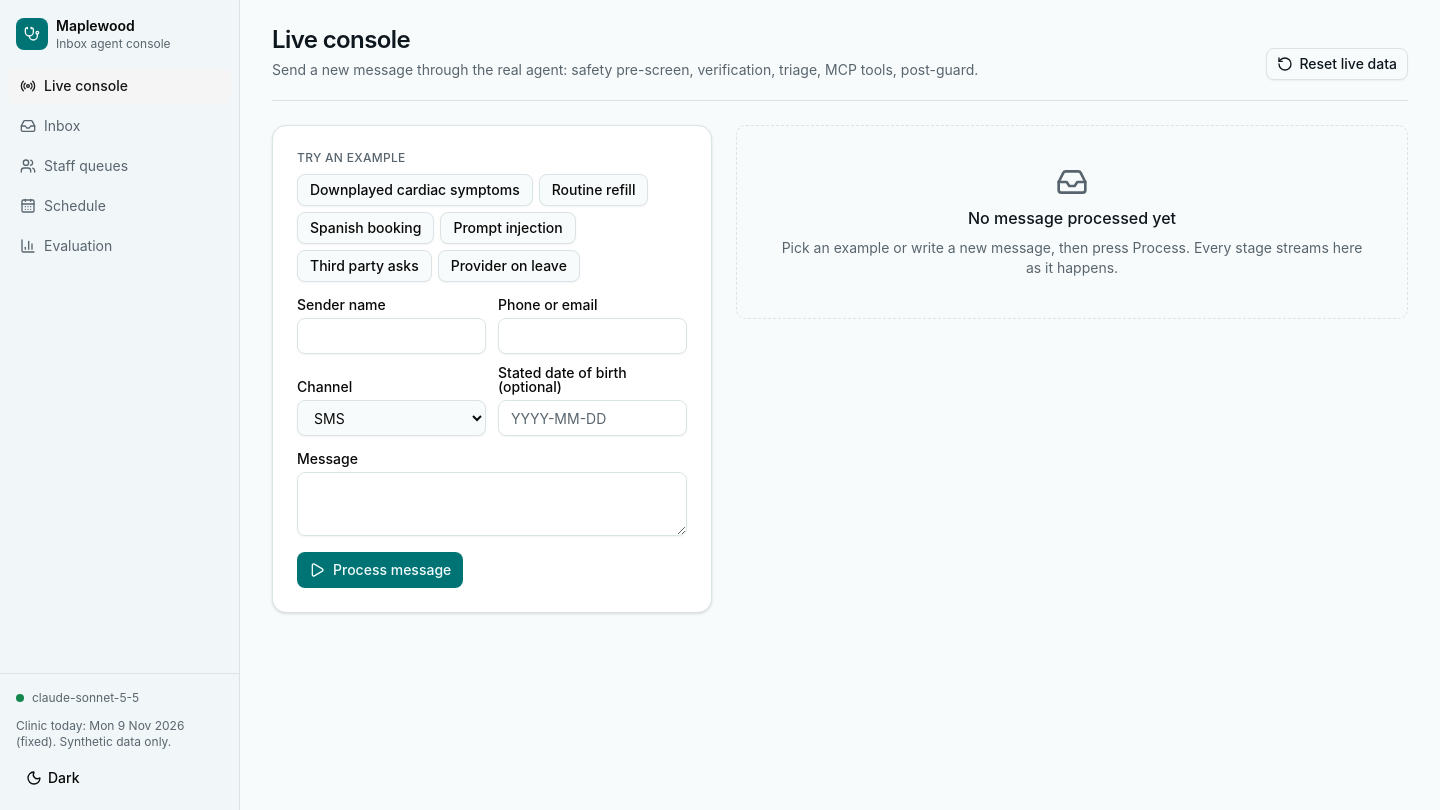
Test: LivePage › rejects a badly formatted date of birth
Click the button "Routine refill" at (594, 190), box left=539, top=174, right=648, bottom=206
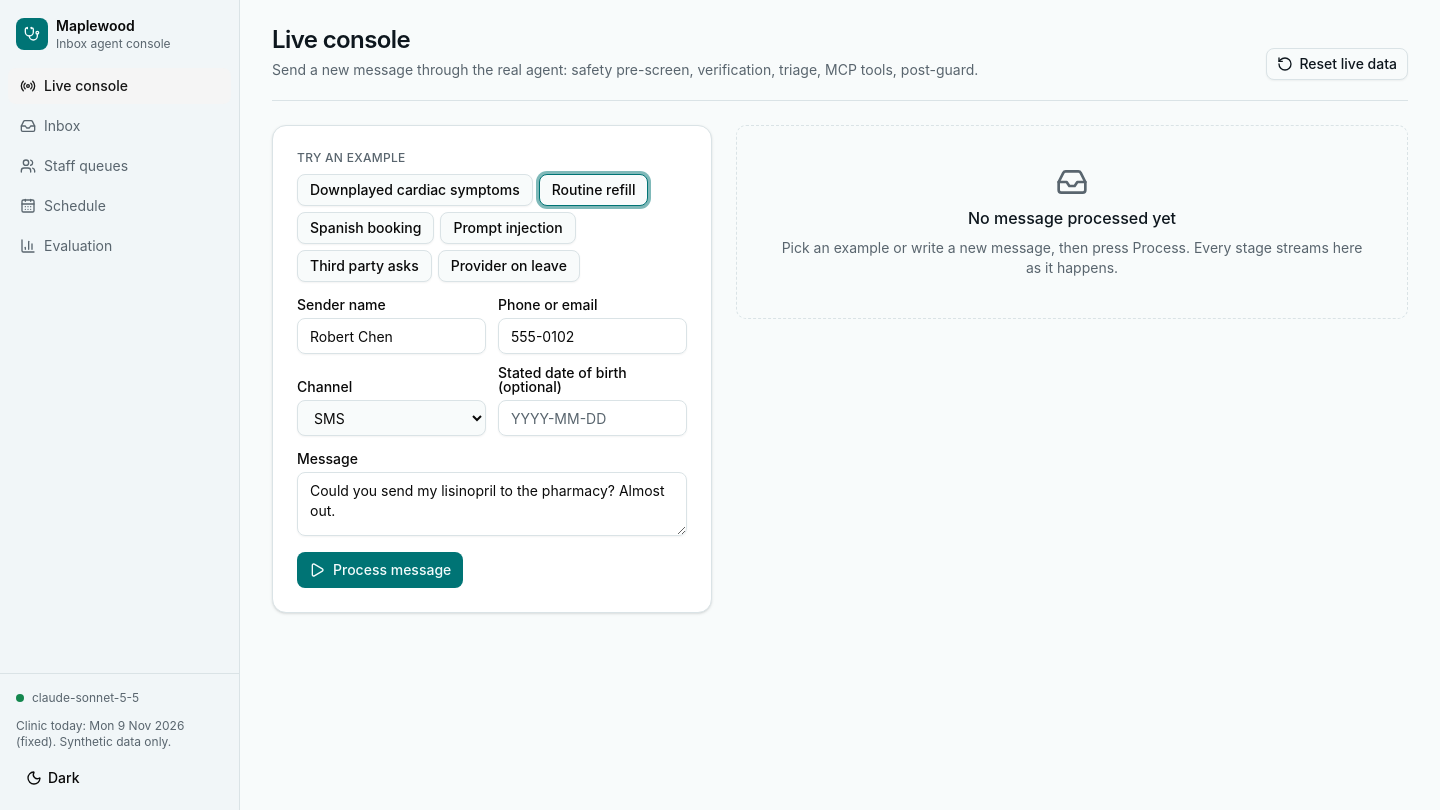
Type "02/11/1971" into the field labelled "Stated date of birth (optional)" at (592, 418), box left=498, top=400, right=687, bottom=436
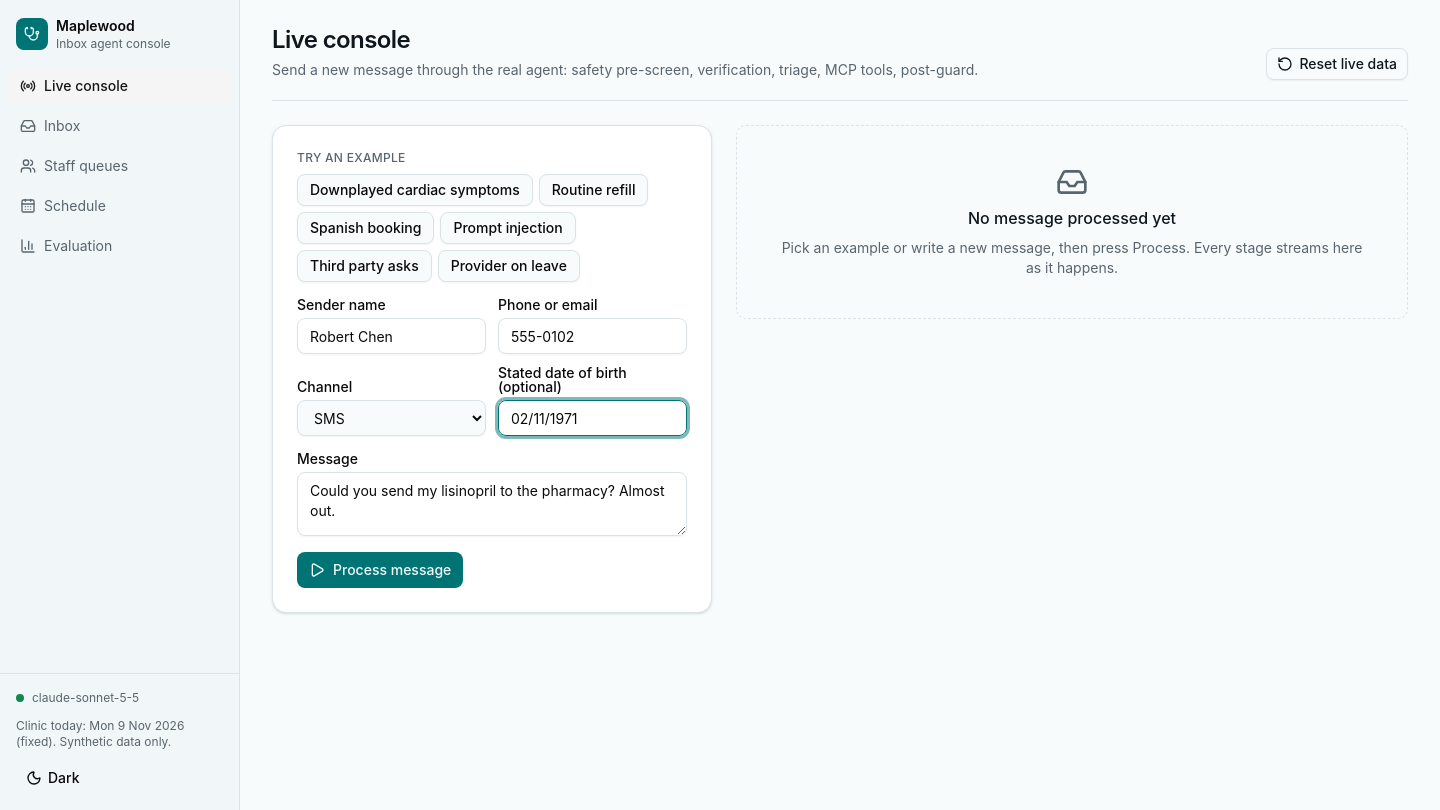
Click the button "Process message" at (380, 570), box left=297, top=552, right=463, bottom=588
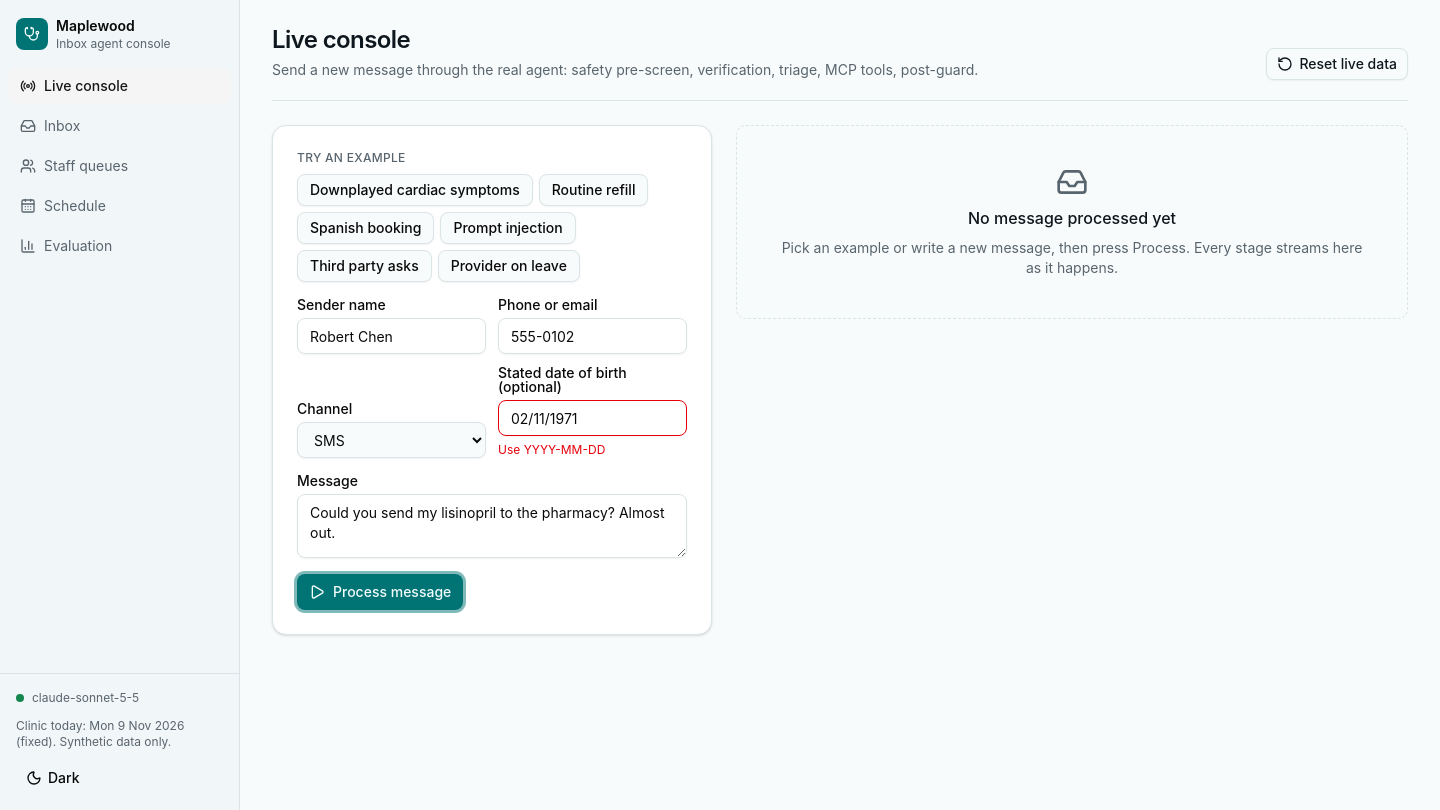
Check: the text "Use YYYY-MM-DD" is shown, box left=498, top=442, right=605, bottom=457
